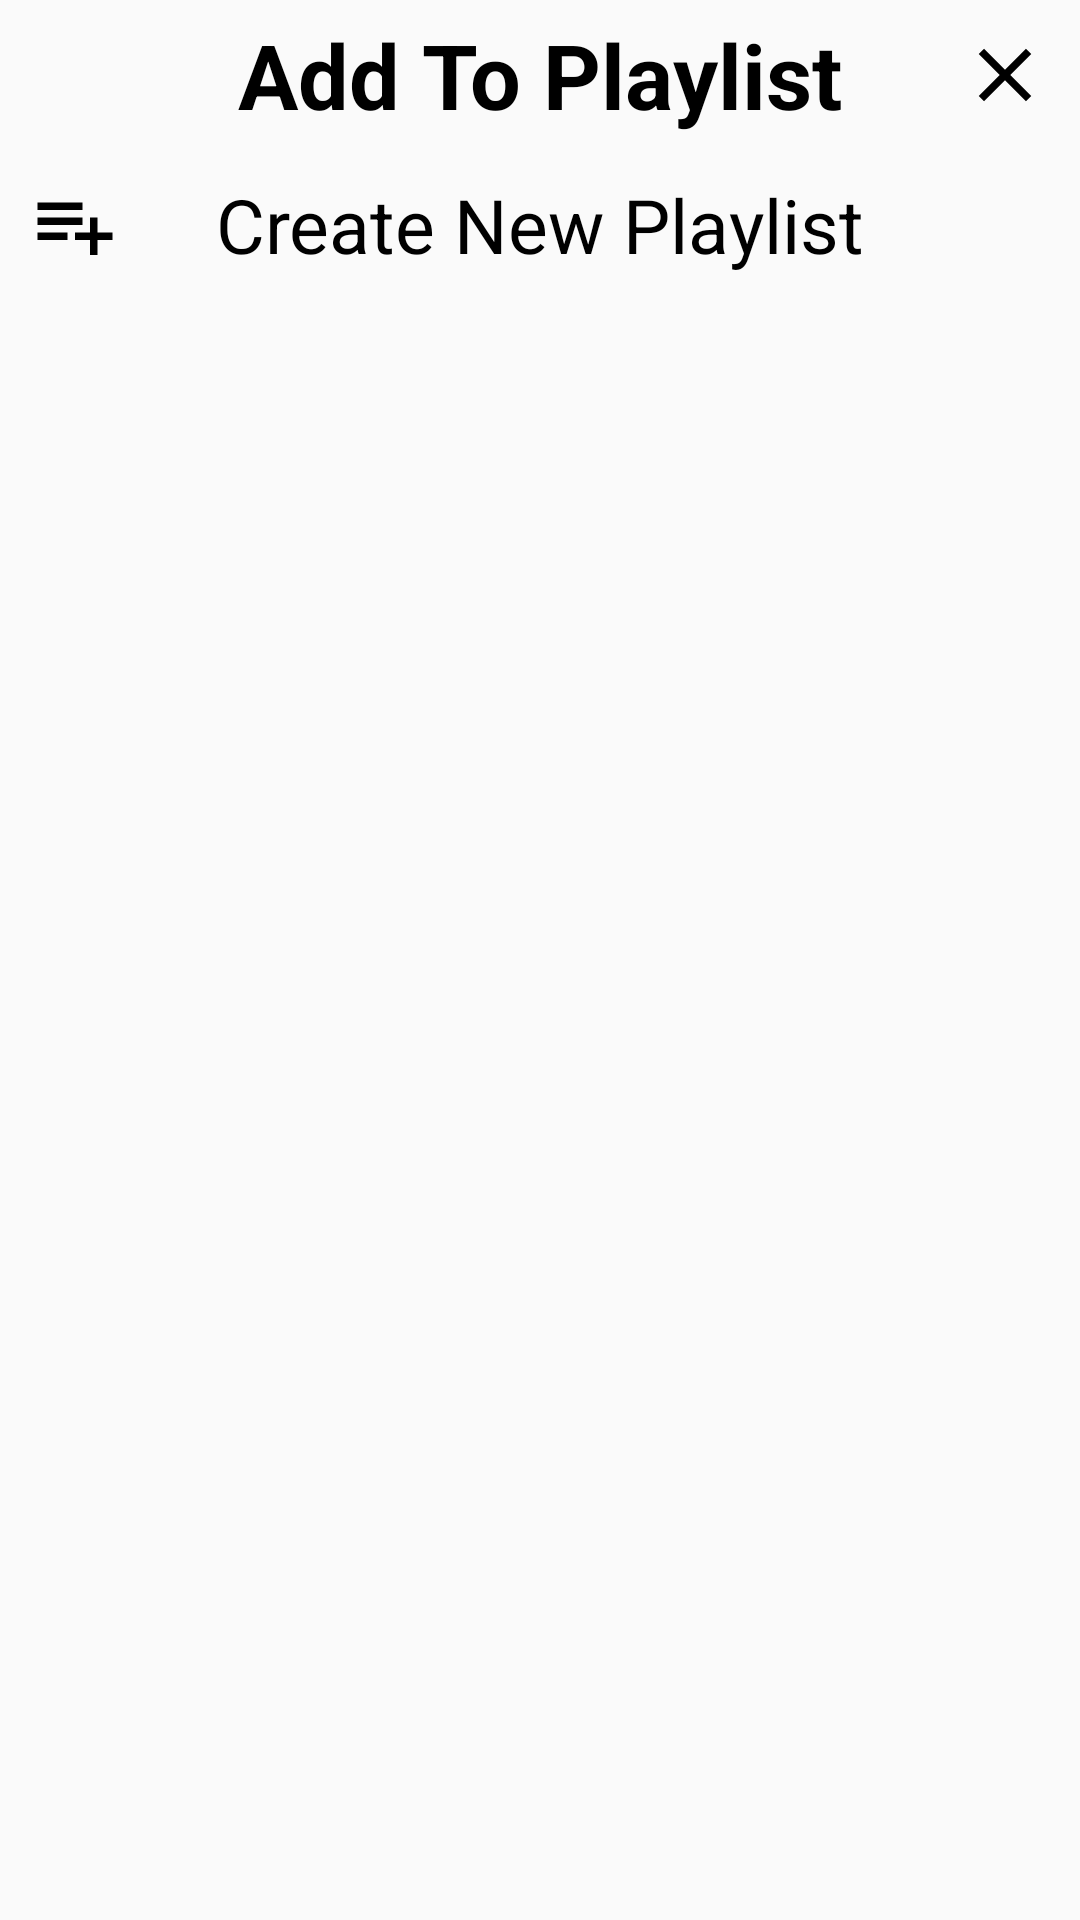

Where icons sit on this 1080*1920 app screen, as bbox(x1, y1, x2, y2):
close: bbox(979, 49, 1031, 101)
